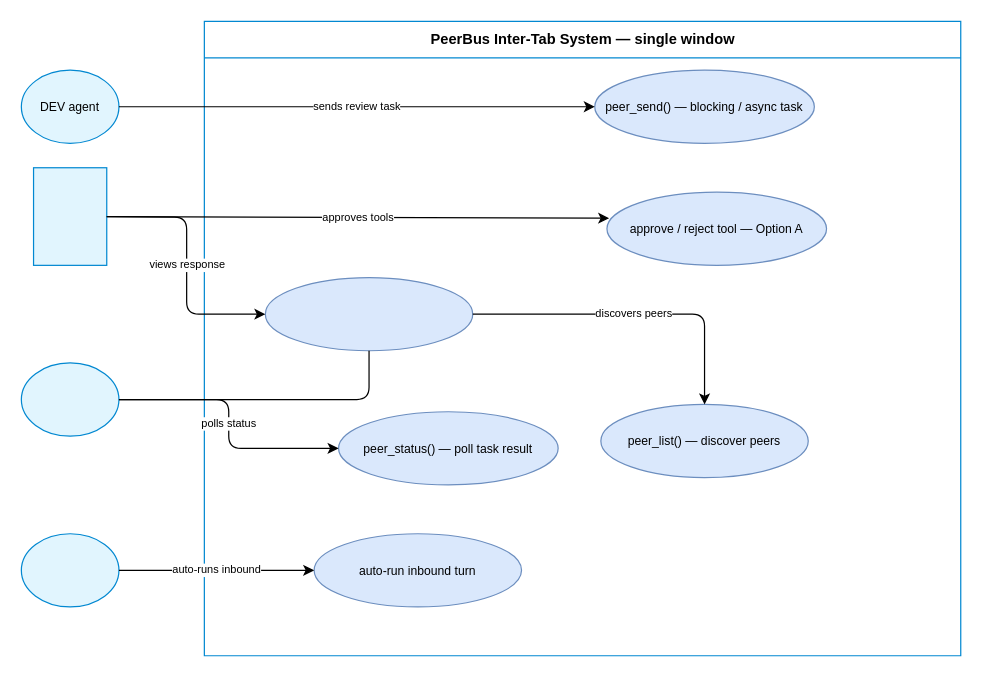
This 982x677 diagram has some shape labels left out. The shapes that lost their labels are listed below. From the top down, each one's centre as x and y in pixels, then its label:
At pixel 69 216: "User".
At pixel 368 313: "view response in origin tab".
At pixel 69 399: "SM-agent".
At pixel 69 570: "Security agent".
